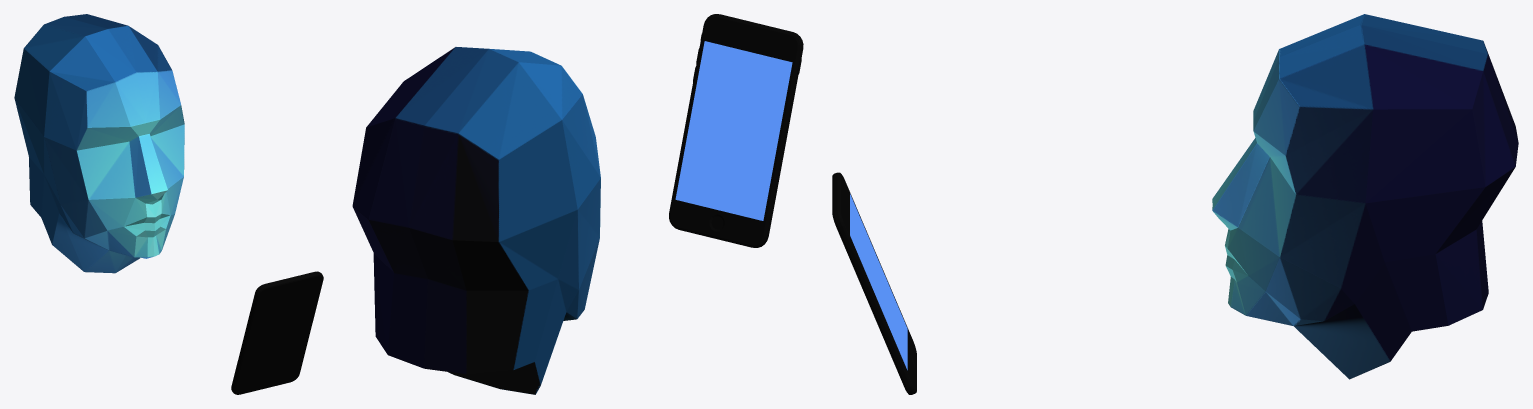
Rendered from scenePhone2.glb.
3 renders of one model, left to right at view 1: azimuth 30°, elevation 25°; view 2: azimuth 150°, elevation 25°; view 3: azimuth 270°, elevation 25°, orthographic. The views are drawn at different scales.
Visible parts, largest first — view 1: head, 1327 iPhone; view 2: head, 1327 iPhone; view 3: head, 1327 iPhone.
Boxes of the visible parts, x1=… form: head: x1=14, y1=14, x2=184, y2=273; 1327 iPhone: x1=231, y1=271, x2=323, y2=394; head: x1=352, y1=47, x2=600, y2=394; 1327 iPhone: x1=669, y1=14, x2=803, y2=247; head: x1=1212, y1=14, x2=1518, y2=379; 1327 iPhone: x1=832, y1=172, x2=916, y2=394.
Size of the model in its own units: 3.66 by 6.85 by 12.13.
3 materials, 3 textured.
